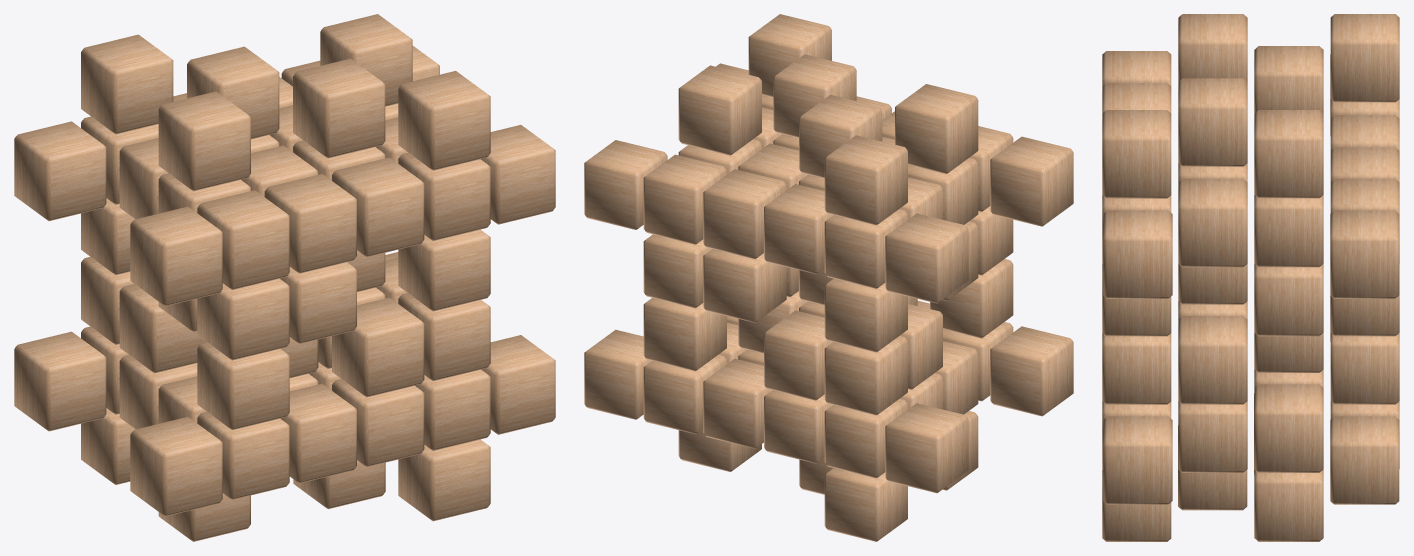
File: level_71.fbx
3 renders of one model, left to right at view 1: azimuth 30°, elevation 25°; view 2: azimuth 150°, elevation 25°; view 3: azimuth 270°, elevation 25°, orthographic. The views are drawn at different scales.
Visible parts, largest first — view 1: Cube.061, Cube.062, Cube.064, Cube.080, Cube.005, Cube.063, Cube.086, Cube.068, Cube.081, Cube.069, Cube.083, Cube.089 (+37 smaller); view 2: Cube.063, Cube.061, Cube.064, Cube.062, Cube.068, Cube.048, Cube.005, Cube.026, Cube.055, Cube.022, Cube.060, Cube.066 (+32 smaller); view 3: Cube.016, Cube.048, Cube.068, Cube.080, Cube.059, Cube.060, Cube.014, Cube.044, Cube.057, Cube.058, Cube.086, Cube.045 (+25 smaller).
Part boxes in pixels (x1,y1,x2,y2): Cube.061: [130, 417, 222, 516]; Cube.062: [130, 206, 222, 306]; Cube.064: [14, 121, 106, 221]; Cube.080: [398, 71, 490, 170]; Cube.005: [158, 91, 250, 191]; Cube.063: [14, 331, 106, 431]; Cube.086: [293, 58, 385, 158]; Cube.068: [81, 34, 173, 134]; Cube.081: [332, 297, 424, 397]; Cube.069: [197, 342, 289, 430]; Cube.083: [332, 157, 424, 257]; Cube.089: [264, 174, 356, 273]; Cube.063: [885, 403, 968, 493]; Cube.061: [990, 326, 1073, 416]; Cube.064: [885, 213, 968, 303]; Cube.062: [990, 136, 1073, 226]; Cube.068: [824, 135, 907, 225]; Cube.048: [678, 65, 761, 155]; Cube.005: [895, 84, 978, 173]; Cube.026: [824, 336, 907, 415]; Cube.055: [703, 169, 786, 259]; Cube.022: [643, 154, 726, 244]; Cube.060: [584, 140, 667, 229]; Cube.066: [824, 278, 907, 352]; Cube.016: [1178, 178, 1247, 267]; Cube.048: [1254, 110, 1323, 198]; Cube.068: [1330, 14, 1399, 102]; Cube.080: [1102, 110, 1171, 198]; Cube.059: [1330, 416, 1399, 504]; Cube.060: [1330, 210, 1399, 298]; Cube.014: [1178, 316, 1247, 404]; Cube.044: [1254, 384, 1323, 472]; Cube.057: [1103, 416, 1172, 504]; Cube.058: [1103, 210, 1172, 298]; Cube.086: [1178, 78, 1247, 166]; Cube.045: [1254, 195, 1323, 267].
Size of the model in its own units: 12.91 by 12.96 by 8.6.
